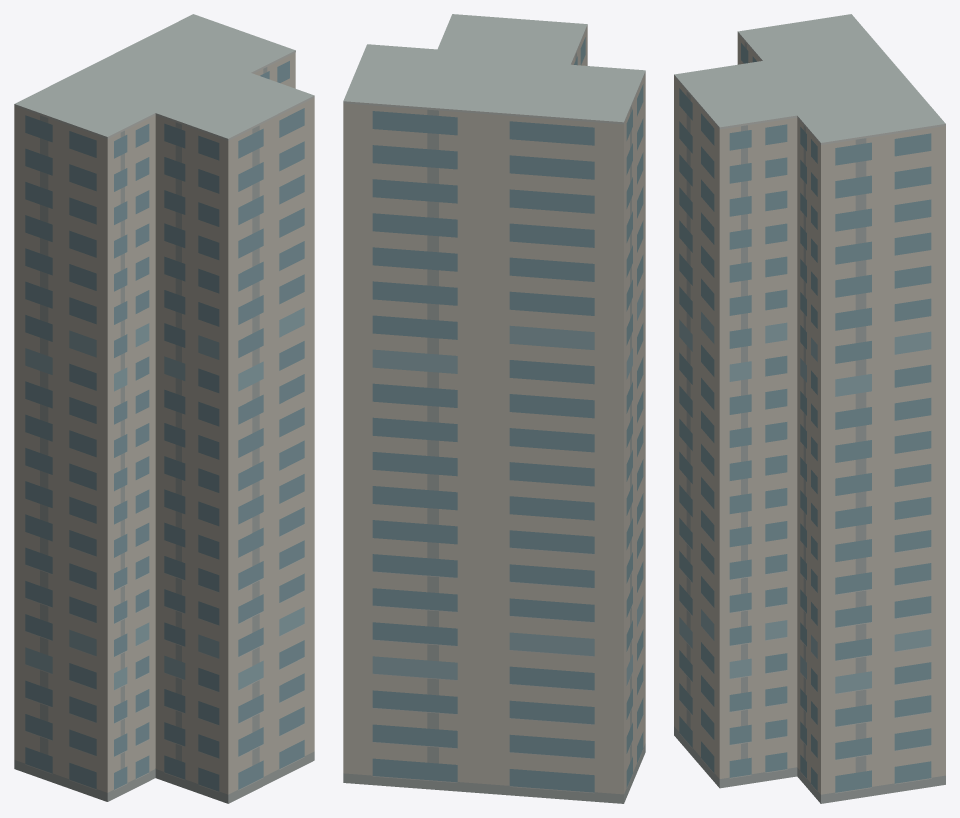
File: residential-78d6ee81-8412-4205-a811-23f3625d0335.glb
3 views of the same model, side by side, from view 1: azimuth 30°, elevation 25°; view 2: azimuth 150°, elevation 25°; view 3: azimuth 270°, elevation 25° (orthographic). The views are drawn at different scales.
Visible parts, largest first — view 1: residential-78d6ee81-8412-4205-a811-23f3625d0335.tmp; view 2: residential-78d6ee81-8412-4205-a811-23f3625d0335.tmp; view 3: residential-78d6ee81-8412-4205-a811-23f3625d0335.tmp.
Part boxes in pixels (x1,y1,x2,y2): residential-78d6ee81-8412-4205-a811-23f3625d0335.tmp: (14, 14, 314, 803); residential-78d6ee81-8412-4205-a811-23f3625d0335.tmp: (343, 14, 645, 803); residential-78d6ee81-8412-4205-a811-23f3625d0335.tmp: (674, 14, 945, 803).
Size of the model in its own units: 32.24 by 77 by 28.7.
